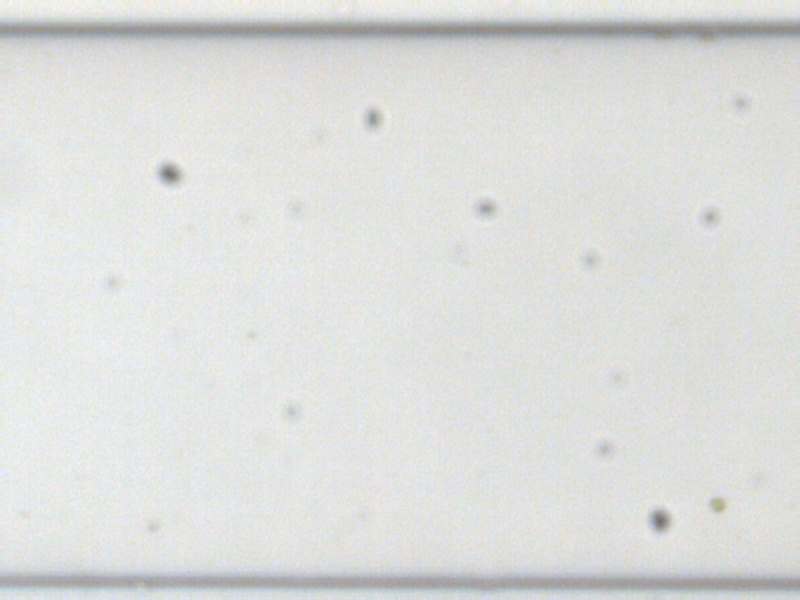Chlorella: (709, 497, 724, 511)
